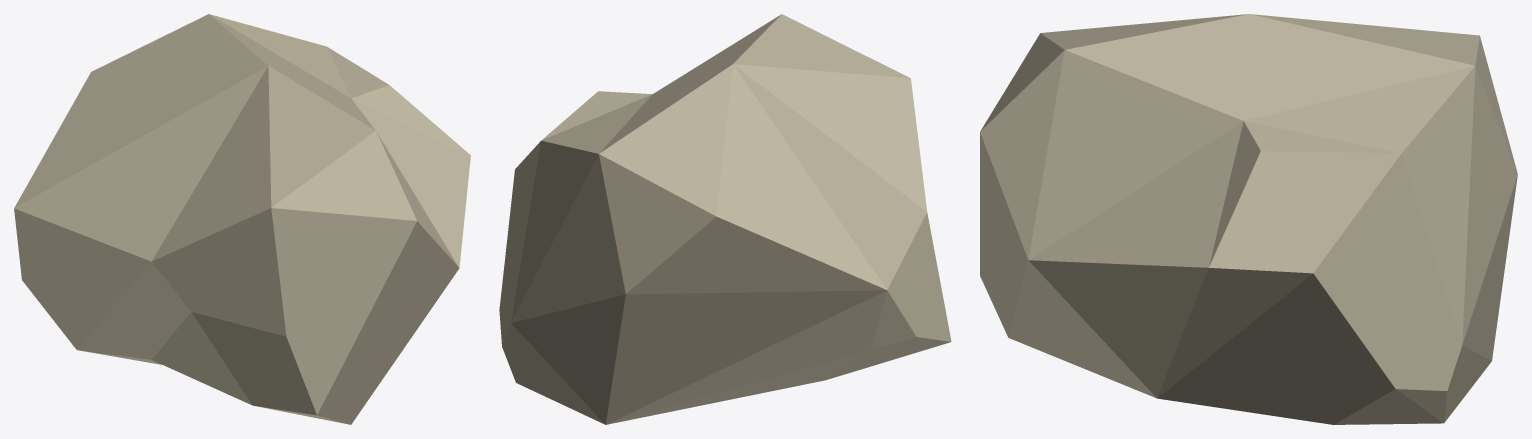
The model's file is object_landscape_stone_large.glb.
3 views of the same model, side by side, from view 1: azimuth 30°, elevation 25°; view 2: azimuth 150°, elevation 25°; view 3: azimuth 270°, elevation 25° (orthographic). The views are drawn at different scales.
Parts seen in each view (by area): view 1: object_landscape_stone_large; view 2: object_landscape_stone_large; view 3: object_landscape_stone_large.
Part boxes in pixels (x1=…): object_landscape_stone_large: x1=14, y1=14, x2=470, y2=424; object_landscape_stone_large: x1=499, y1=14, x2=951, y2=424; object_landscape_stone_large: x1=980, y1=14, x2=1517, y2=424.
Size of the model in its own units: 0.5578 by 0.3763 by 0.5482.
